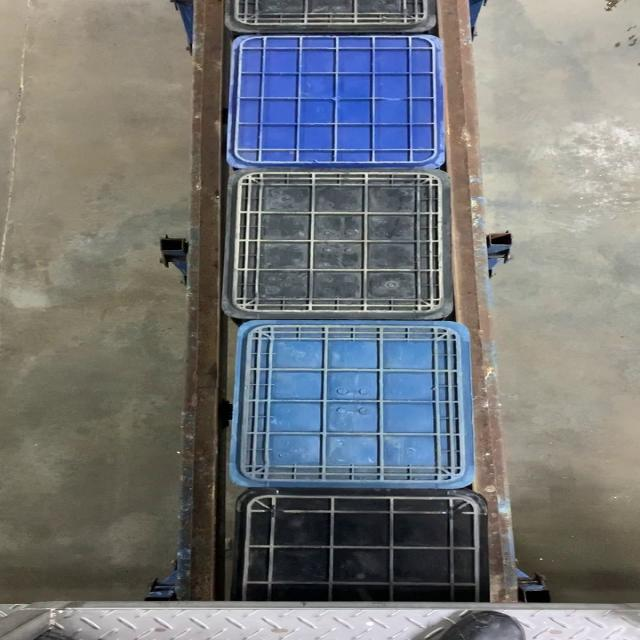Box: (228, 321, 478, 489), (224, 168, 459, 320), (228, 33, 448, 168)
